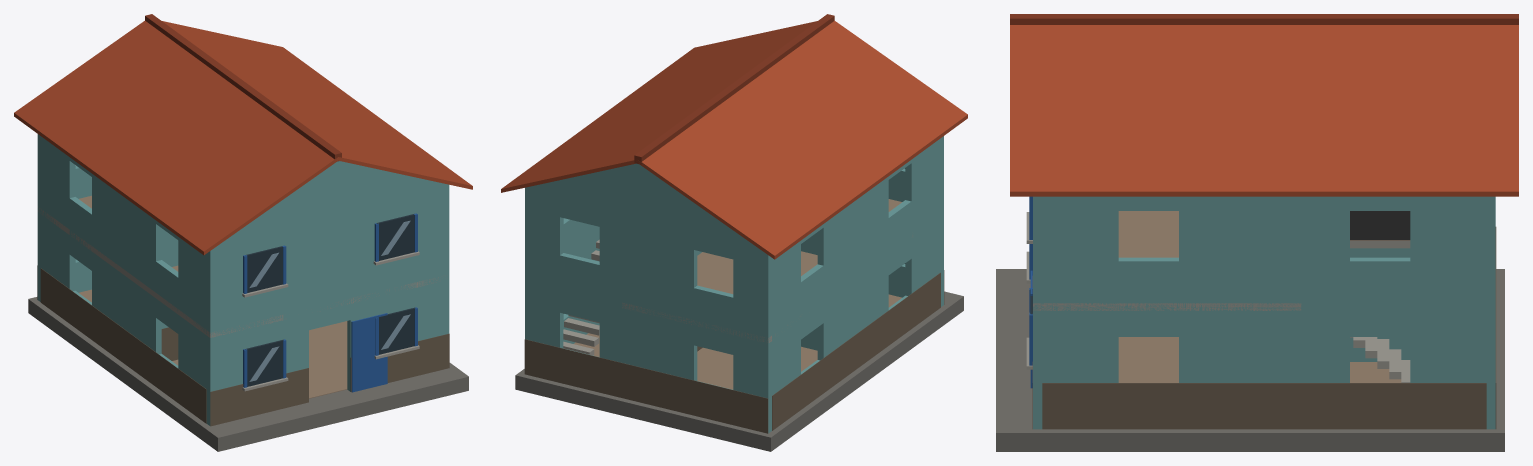
Rendered from sobrado_a.glb.
The picture shows the model from 3 angles, left to right: view 1: azimuth 30°, elevation 25°; view 2: azimuth 150°, elevation 25°; view 3: azimuth 270°, elevation 25°; orthographic projection. The views are drawn at different scales.
Visible parts, largest first — view 1: sobrado_a; view 2: sobrado_a; view 3: sobrado_a.
Boxes of the visible parts, <box> form: sobrado_a: <box>14,14,472,451</box>; sobrado_a: <box>501,14,967,451</box>; sobrado_a: <box>996,14,1518,451</box>.
Bounding box in the file's own units: 9 × 8.43 × 11.3.
